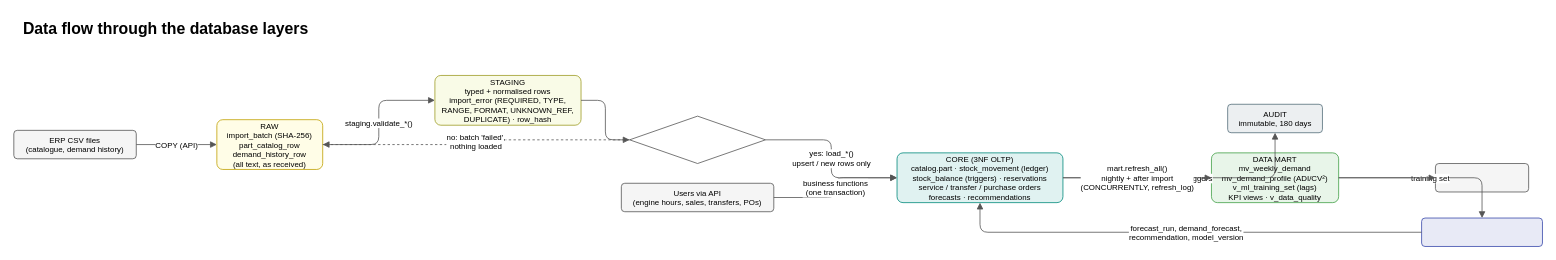
Image size: 1556x260. Some labels were removed from this diagram. The shapes that lost their labels are listed below. From the top down, each one's box as (x1, y1, x2, y2) in pixels, then its label:
(629, 115, 766, 164): Quality gate errors ≤ 5 % ?
(1435, 163, 1529, 192): Dashboards / reports KPI-01..05, accuracy
(1421, 217, 1542, 246): ML.NET training & inference (Quartz.NET job)
